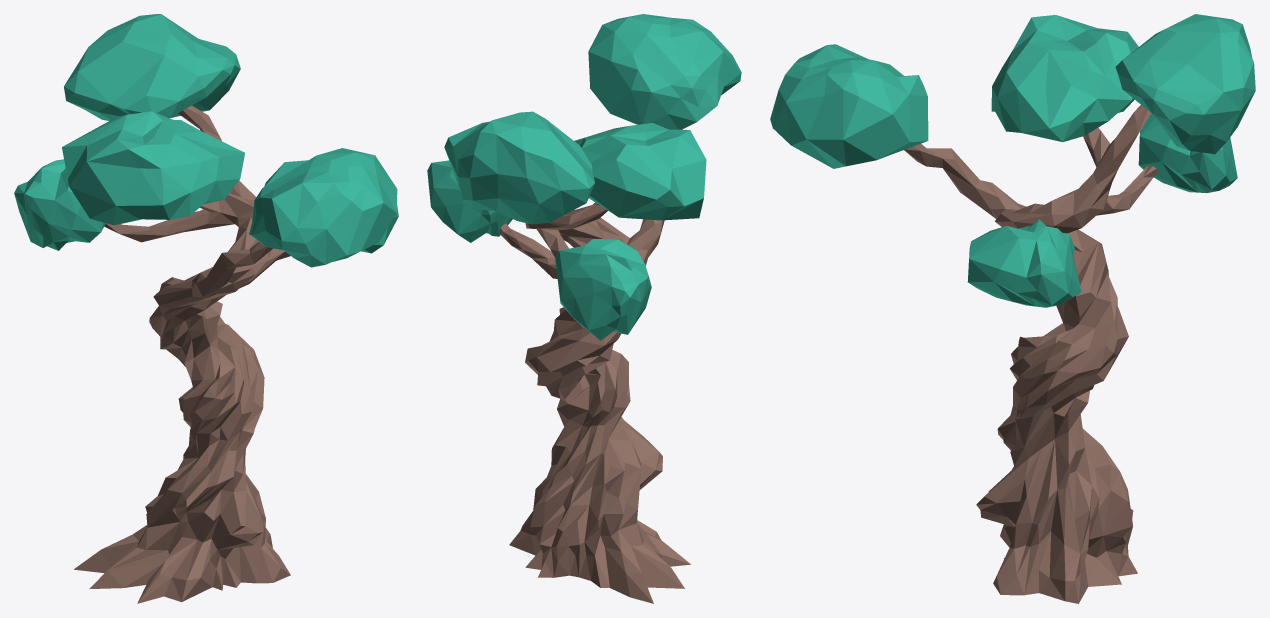
Rendered from fantasy_plant_042.fbx.
3 views of the same model, side by side, from view 1: azimuth 30°, elevation 25°; view 2: azimuth 150°, elevation 25°; view 3: azimuth 270°, elevation 25° (orthographic). The views are drawn at different scales.
Parts seen in each view (by area): view 1: fantasy_plant.042; view 2: fantasy_plant.042; view 3: fantasy_plant.042.
Part boxes in pixels (bbox=[...]): fantasy_plant.042: bbox=[14, 14, 398, 603]; fantasy_plant.042: bbox=[427, 14, 741, 603]; fantasy_plant.042: bbox=[770, 14, 1255, 603].
Size of the model in its own units: 1092 by 1707 by 1376.
1 material, 1 textured.
